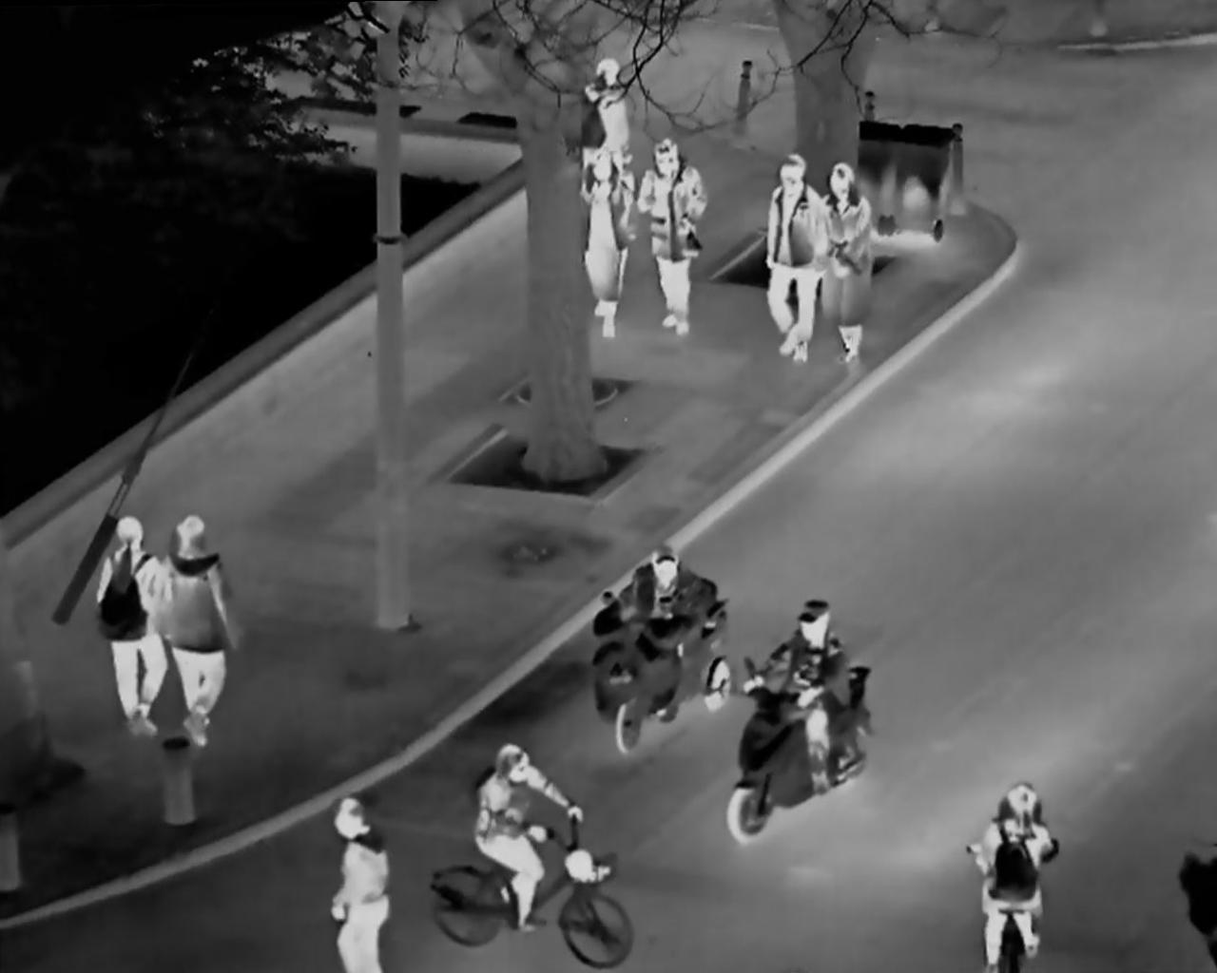person: (458, 731, 593, 964), (744, 583, 867, 824), (597, 538, 733, 746), (151, 508, 239, 753), (630, 128, 724, 343), (959, 771, 1064, 963), (87, 506, 168, 739), (816, 157, 889, 358), (318, 793, 398, 973), (765, 146, 820, 367), (573, 139, 630, 351), (579, 49, 641, 242)
